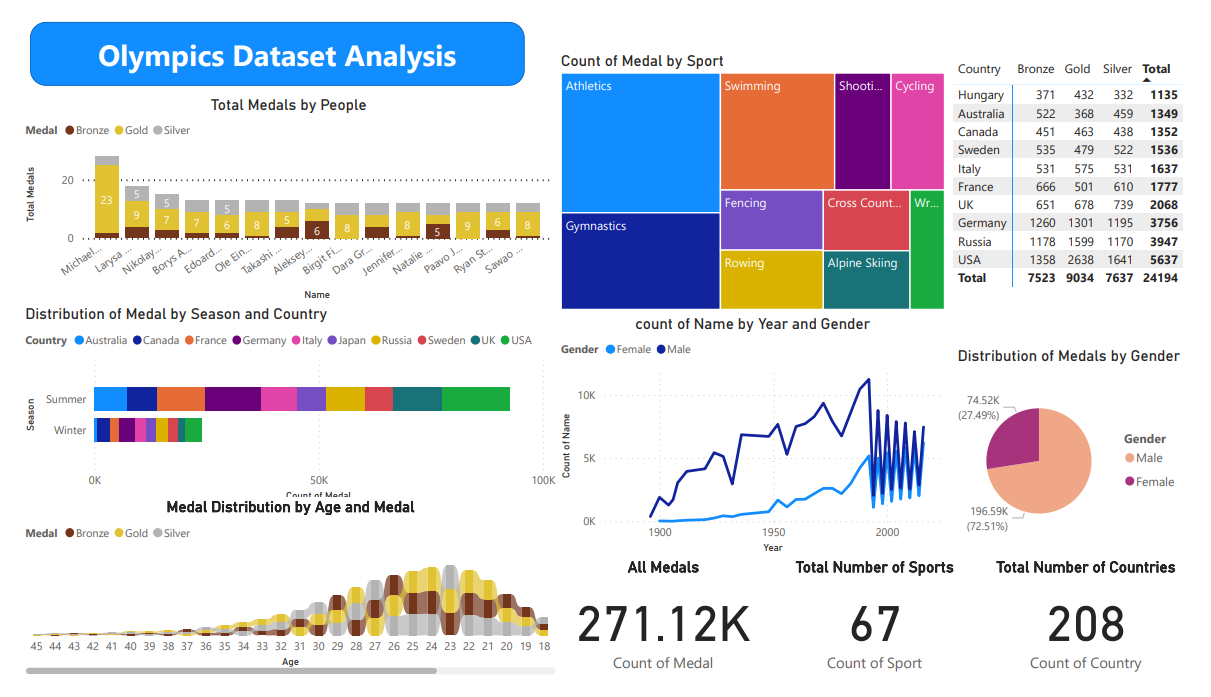

This screenshot's page, from the dashboard's own definition file:
{"tool":"powerbi","page":{"name":"Page 5","canvas":[1280,720],"ordinal":4},"visuals":[{"type":"shape","box":[9.6,0,542.6,70.1],"z":0},{"type":"pieChart","title":"Distribution of  Medals by Gender","fields":{"Category":["Olympics Final.Gender"],"Y":["Olympics Final.Medal"]},"box":[1009.7,289.8,270.6,230.8],"z":1},{"type":"columnChart","title":"Total Medals by People","fields":{"Category":["Olympics Final.Name"],"Y":["Olympics Final.Medal"],"Series":["Olympics Final.Medal"]},"box":[0,79.7,586.6,230.8],"z":2},{"type":"pivotTable","fields":{"Rows":["Olympics Final.Country"],"Columns":["Olympics Final.Medal"],"Values":["Olympics Final.Medal"]},"box":[586.6,15.1,285.7,273.4],"z":3},{"type":"treemap","fields":{"Group":["Olympics Final.Sport"],"Values":["Olympics Final.Medal"]},"box":[872.3,0,408,288.5],"z":4},{"type":"barChart","title":"Distribution of Medal by Season and Country","fields":{"Category":["Olympics Final.Season"],"Y":["Olympics Final.Medal"],"Series":["Olympics Final.Country"]},"box":[0,310.5,590.7,219.8],"z":5},{"type":"ribbonChart","title":" Medal Distribution by Age and Medal","fields":{"Category":["Olympics Final.Age"],"Y":["Olympics Final.Medal"],"Series":["Olympics Final.Medal"]},"box":[0,520.6,590.7,199.2],"z":6},{"type":"lineChart","title":"count of Name by Year and Gender","fields":{"Category":["Olympics Final.Year"],"Y":["Olympics Final.Name"],"Series":["Olympics Final.Gender"]},"box":[586.6,289.8,430,230.8],"z":7},{"type":"card","title":"All Medals","fields":{"Values":["Olympics Final.Medal"]},"box":[590.7,524.7,226.7,195.1],"z":8},{"type":"card","title":"Total Number of Sports","fields":{"Values":["Olympics Final.Sport"]},"box":[817.3,520.6,236.3,199.2],"z":9},{"type":"card","title":"Total Number of Countries","fields":{"Values":["Olympics Final.Country"]},"box":[1053.6,520.6,226.7,199.2],"z":10}]}

Visuals, with their boxes in screenshot pixels (x1, y1, x2, y2), scaled from the page's 1280x720 canvas onto the 1211x697 screenshot:
shape: box(9, 0, 522, 68)
"Distribution of  Medals by Gender" pieChart: box(955, 281, 1210, 504)
"Total Medals by People" columnChart: box(0, 77, 555, 301)
pivotTable - Olympics Final.Country x Olympics Final.Medal: box(555, 15, 825, 279)
treemap - Olympics Final.Sport x Olympics Final.Medal: box(825, 0, 1210, 279)
"Distribution of Medal by Season and Country" barChart: box(0, 301, 559, 513)
" Medal Distribution by Age and Medal" ribbonChart: box(0, 504, 559, 696)
"count of Name by Year and Gender" lineChart: box(555, 281, 962, 504)
"All Medals" card: box(559, 508, 773, 696)
"Total Number of Sports" card: box(773, 504, 997, 696)
"Total Number of Countries" card: box(997, 504, 1210, 696)
